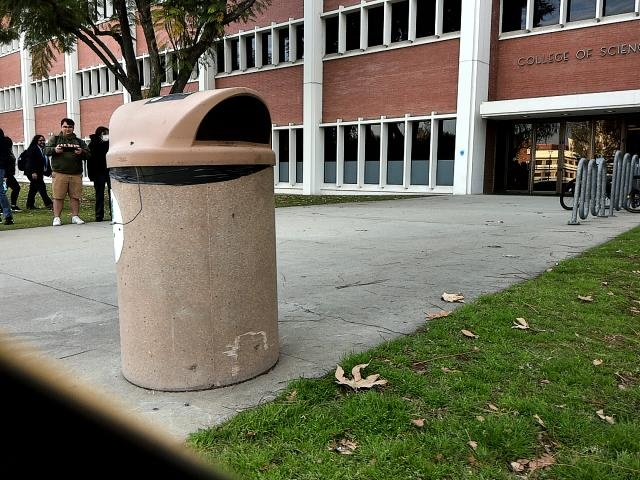trashcan: (101, 86, 291, 382)
